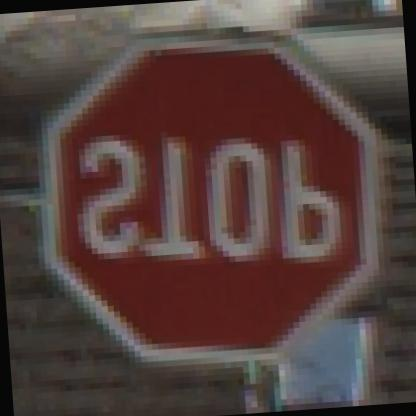stop: (25, 24, 406, 377)
